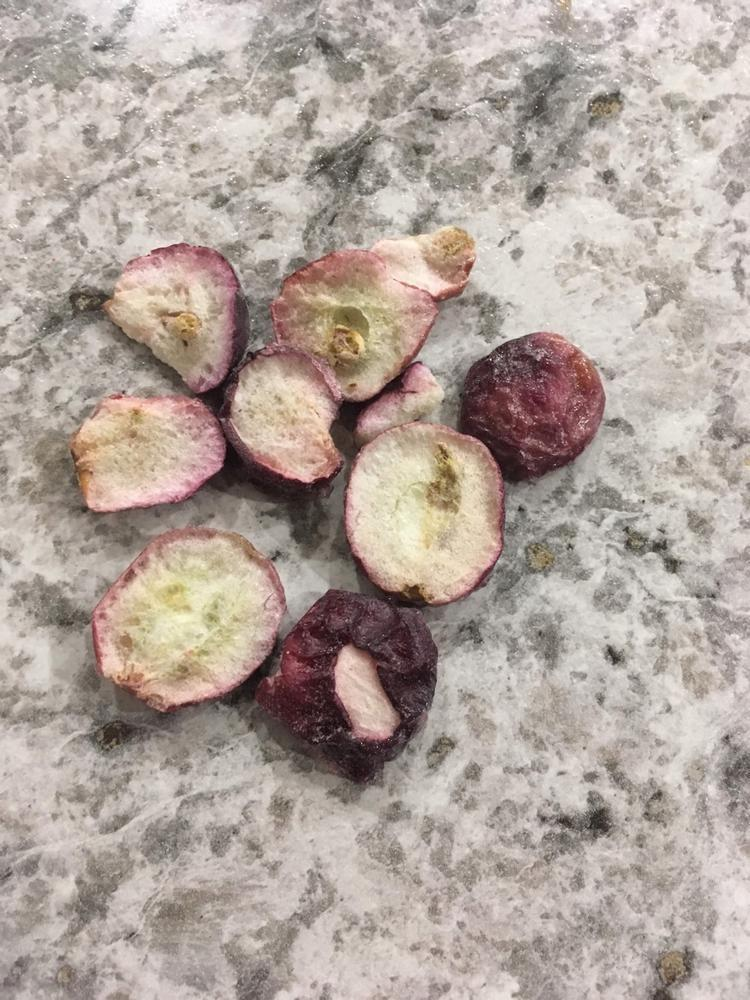Grape Rotten: (71, 227, 604, 604), (92, 529, 437, 779), (256, 590, 437, 781), (460, 332, 605, 481), (106, 244, 238, 389)
